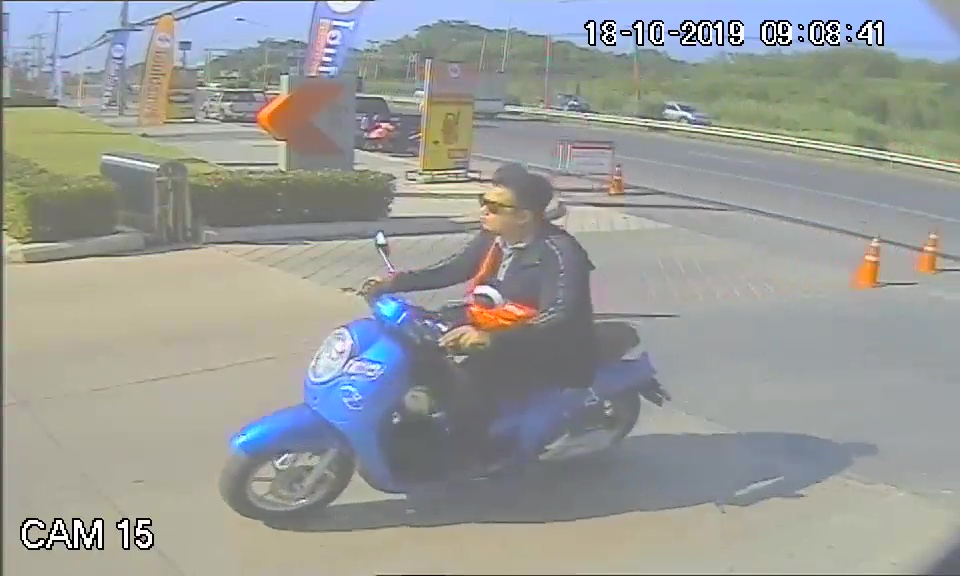motorcycle: (215, 287, 677, 522)
